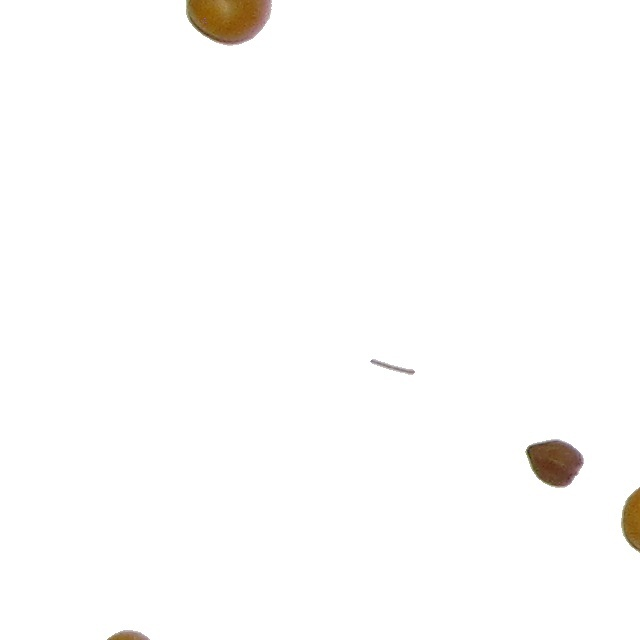buckwheat: (524, 438, 585, 489)
dill: (369, 358, 416, 376)
mais: (620, 477, 640, 568), (88, 629, 161, 640)
